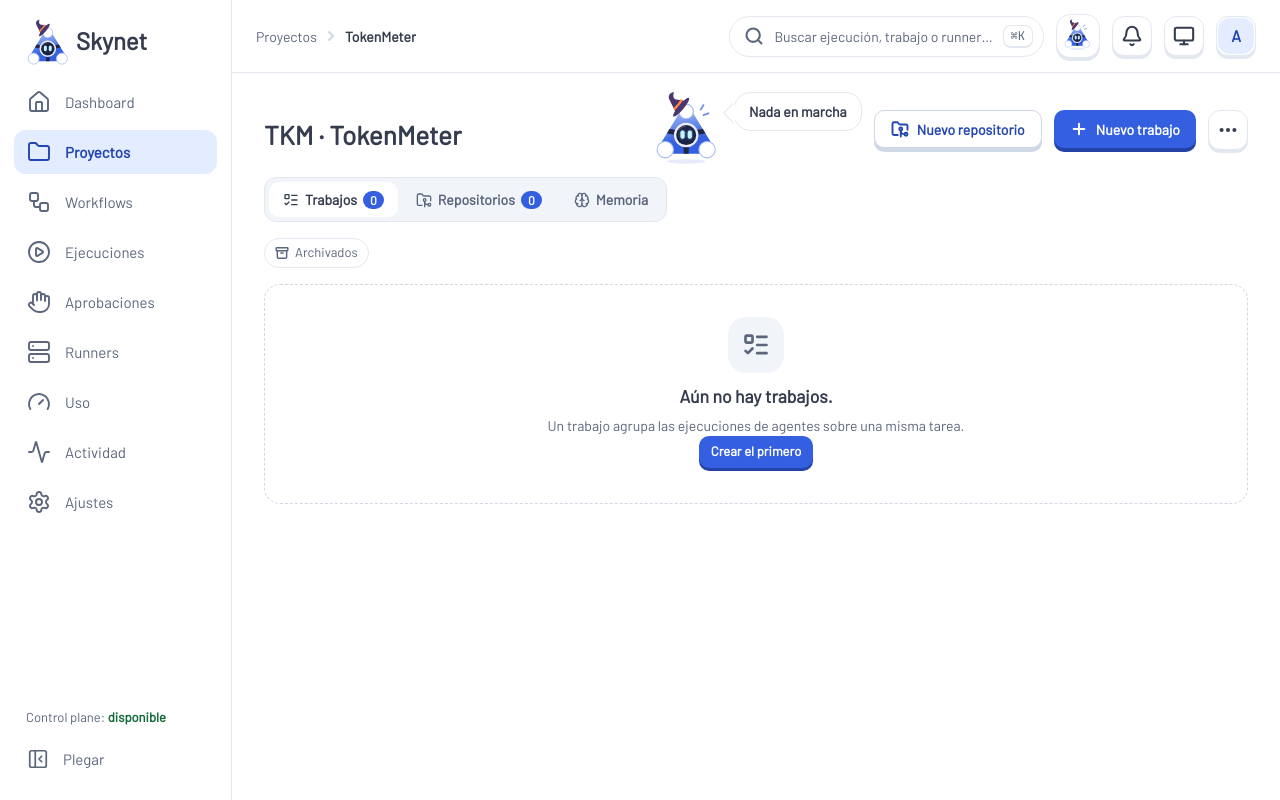
Página del proyecto › crea un trabajo en el panel lateral, que se cierra al terminar
This screenshot has width=1280, height=800.
Click the button "Nuevo trabajo". click: [1125, 129]
box: [1054,110,1196,148]
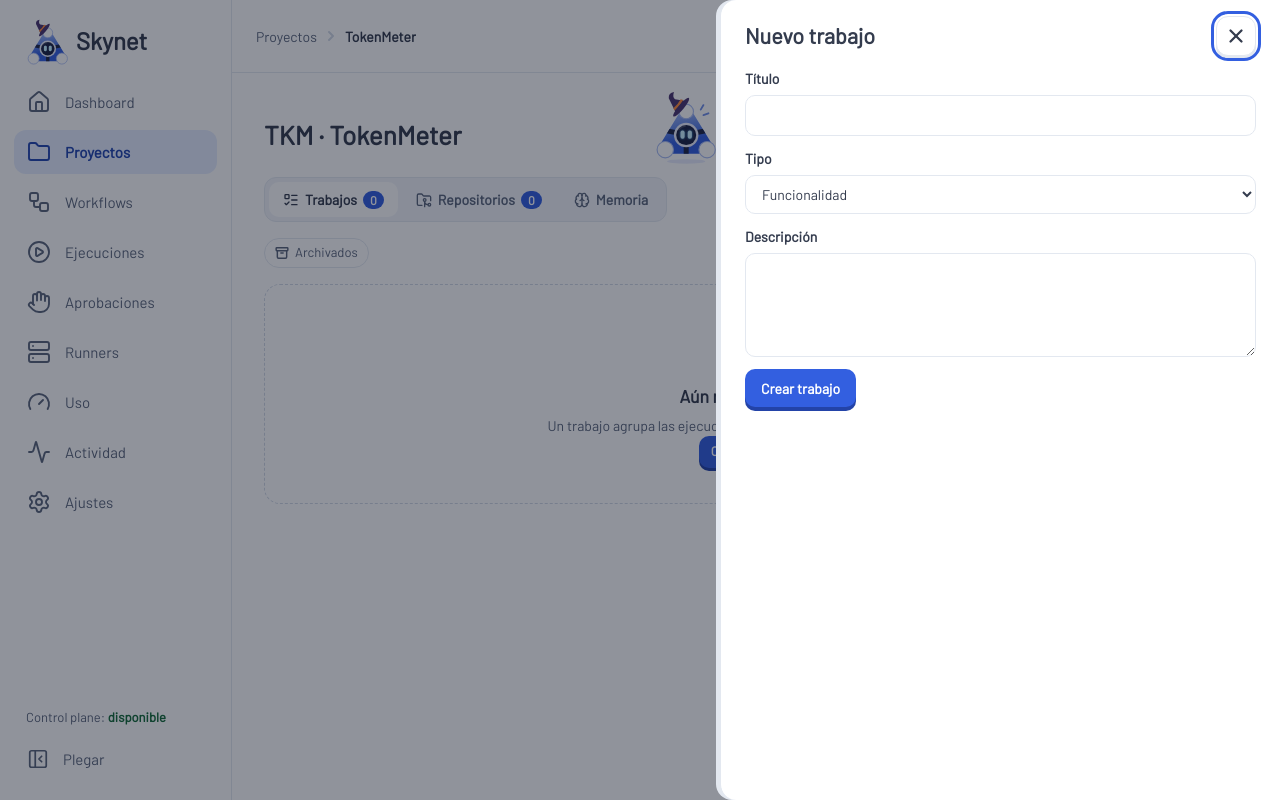
Type "Arreglar la suma" into the field labelled "Título". click: [1000, 116]
box: [745,95,1256,136]
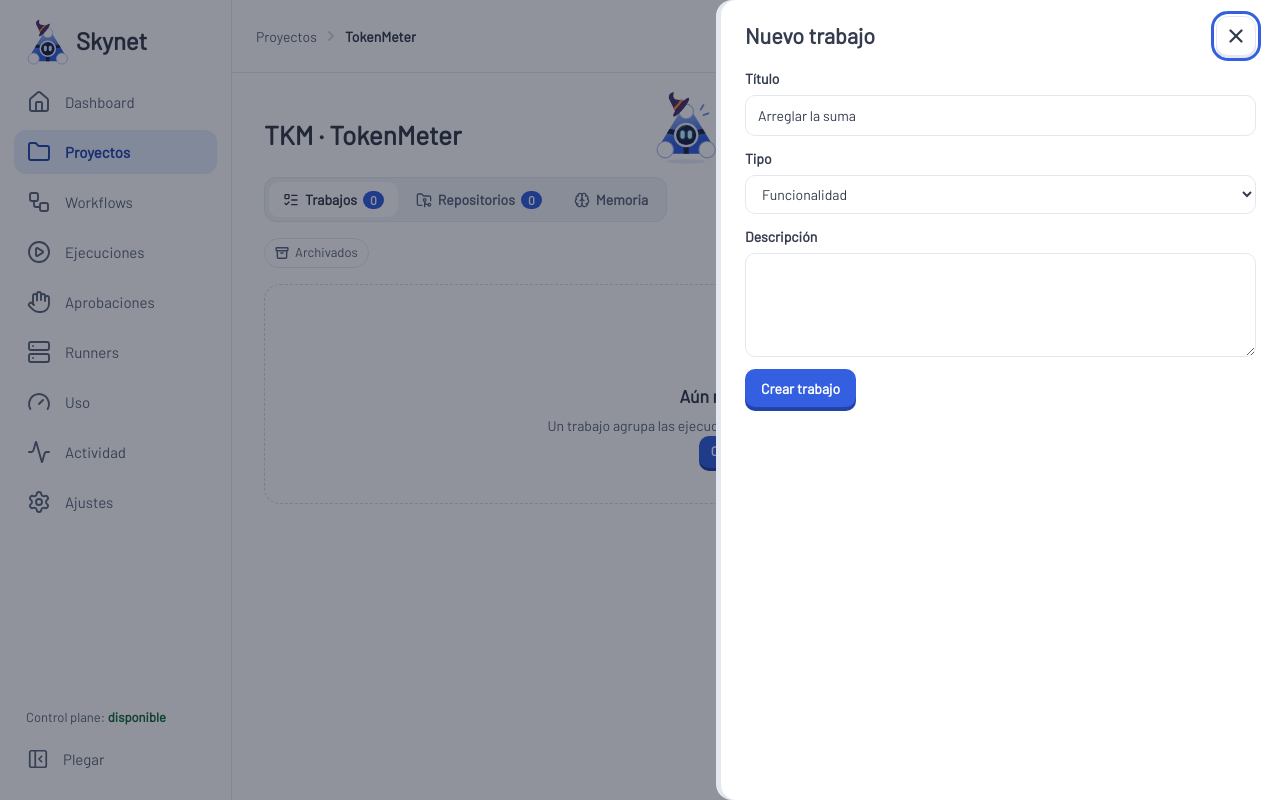
Select "Bug" in the dropdown labelled "Tipo". click: [1000, 194]
box: [745,175,1256,214]
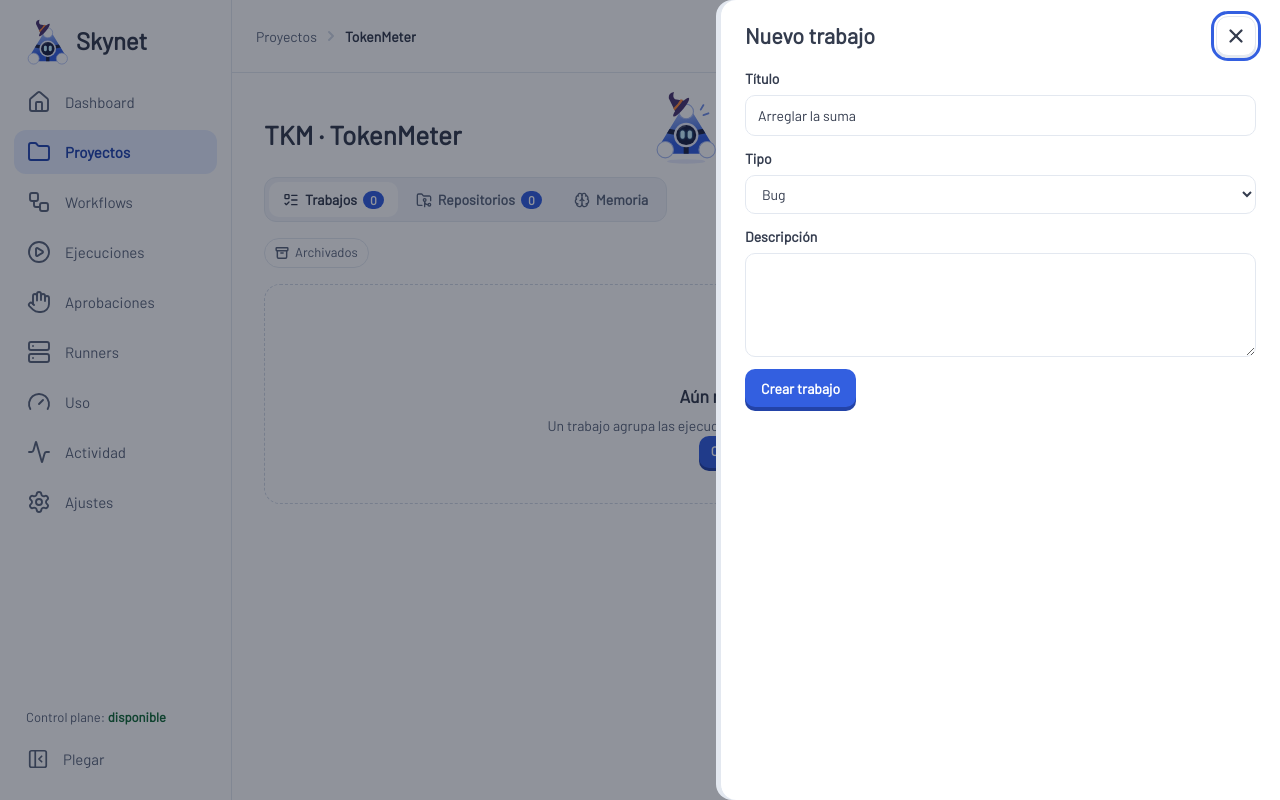
Click the button "Crear trabajo". click: [801, 388]
box: [745,369,856,407]
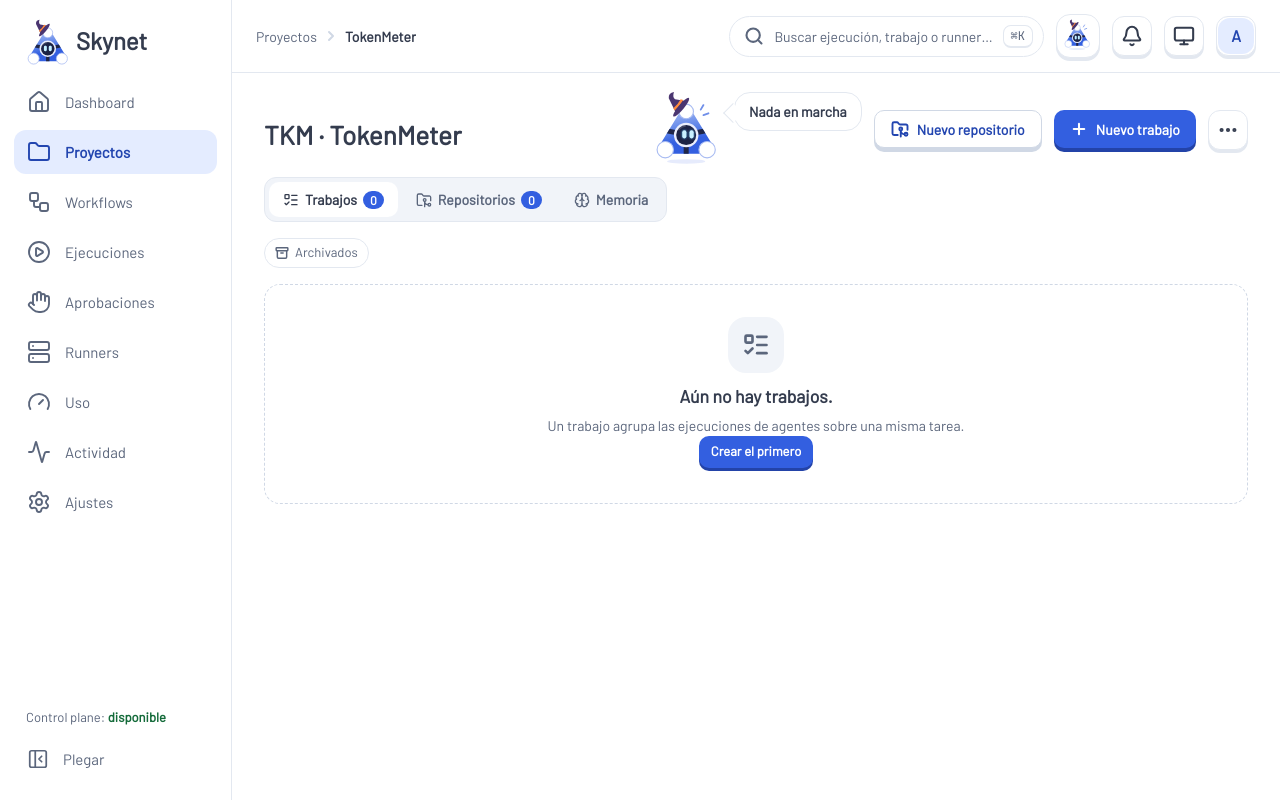
Result: the dialog is gone
